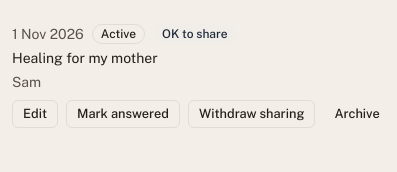
PrayerRequestList › Withdraw sharing shows an action error and is absent on private rows
The image size is (397, 172).
Click the button "Withdraw sharing": {"x": 252, "y": 114} [188, 100, 315, 128]
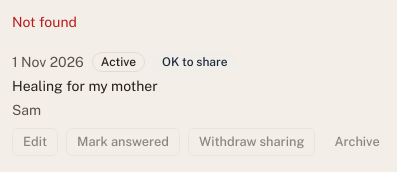
Result: the text "Not found" is shown at [12, 14, 77, 30]
